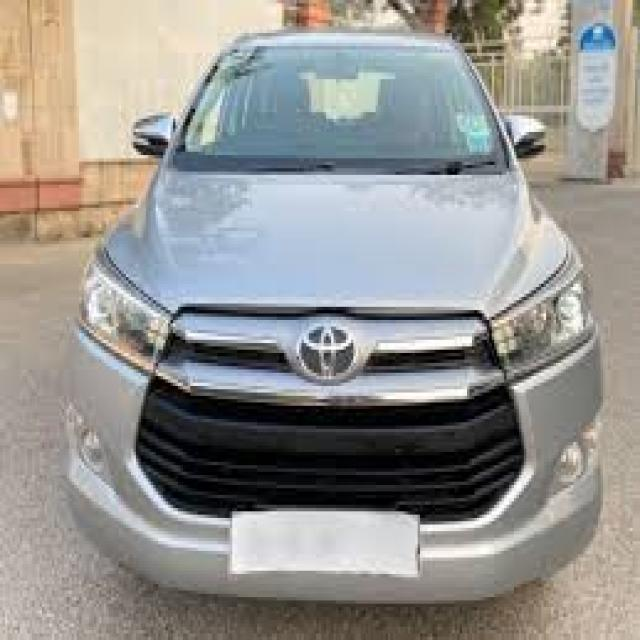light_vehicle: (62, 27, 604, 603)
